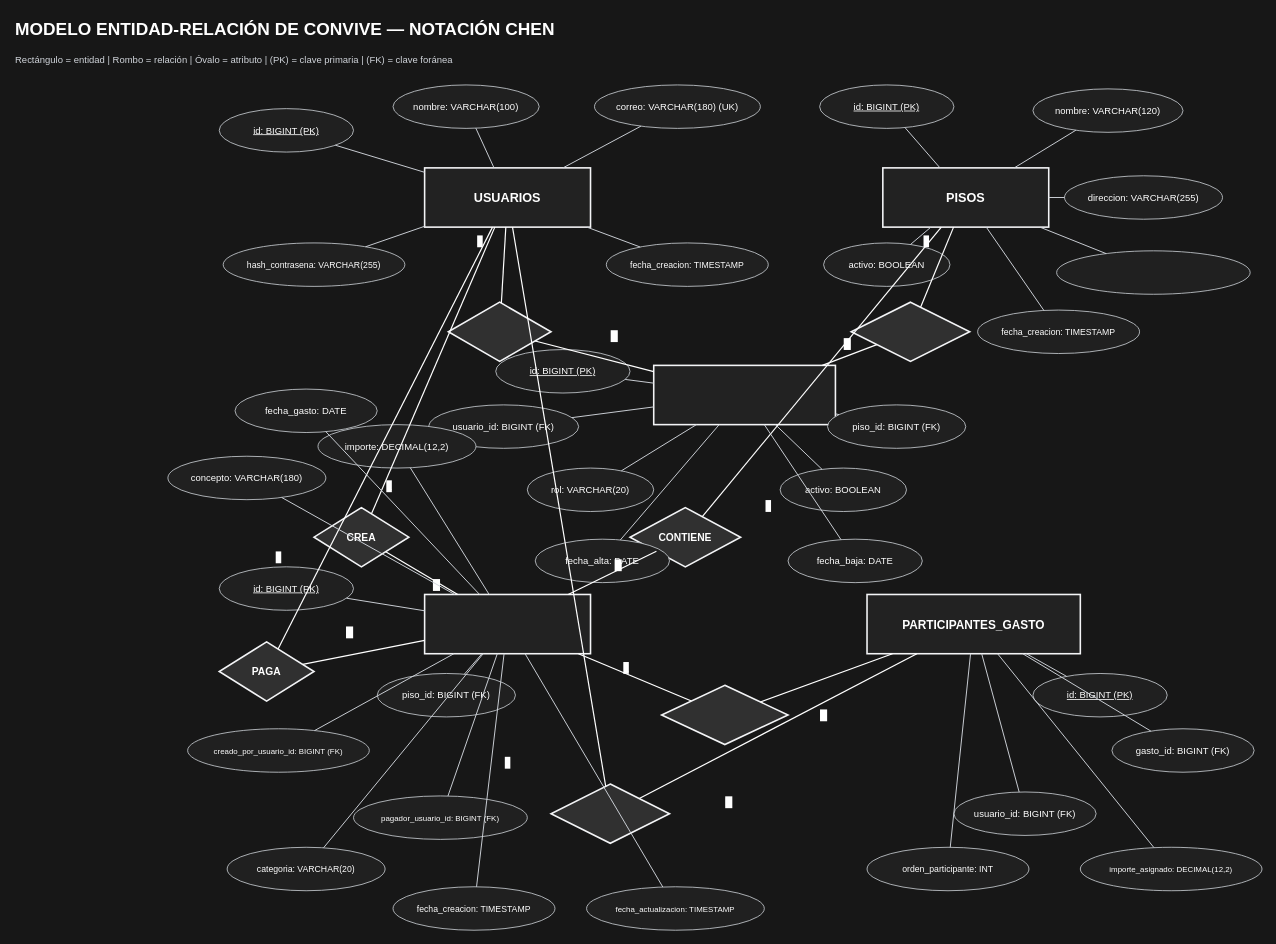
The diagram is 1276 pixels wide and 944 high, and some of its shapes have lost their labels. Here are the shapes that lost their labels. From the top down, the centre of each, then its label:
At pixel 1153 272: "codigo_invitacion: VARCHAR(32) (UK)".
At pixel 499 331: "TIENE".
At pixel 910 331: "CORRESPONDE A".
At pixel 744 394: "MEMBRESIAS".
At pixel 507 623: "GASTOS".
At pixel 724 714: "SE REPARTE EN".
At pixel 610 813: "PARTICIPA EN".
